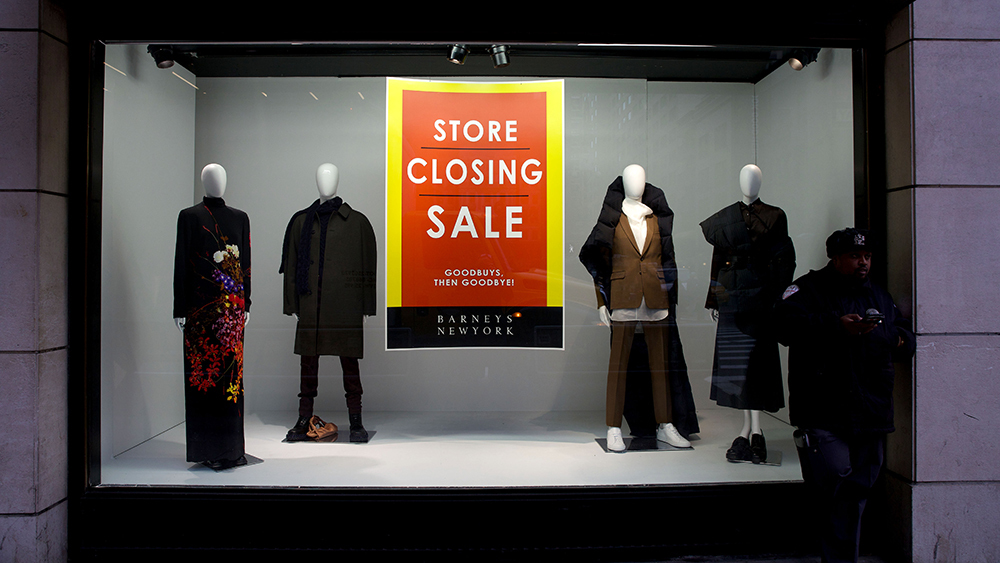person: (774, 223, 919, 515)
person-like: (577, 159, 703, 455), (695, 158, 800, 469), (275, 159, 383, 447), (168, 159, 257, 471)
